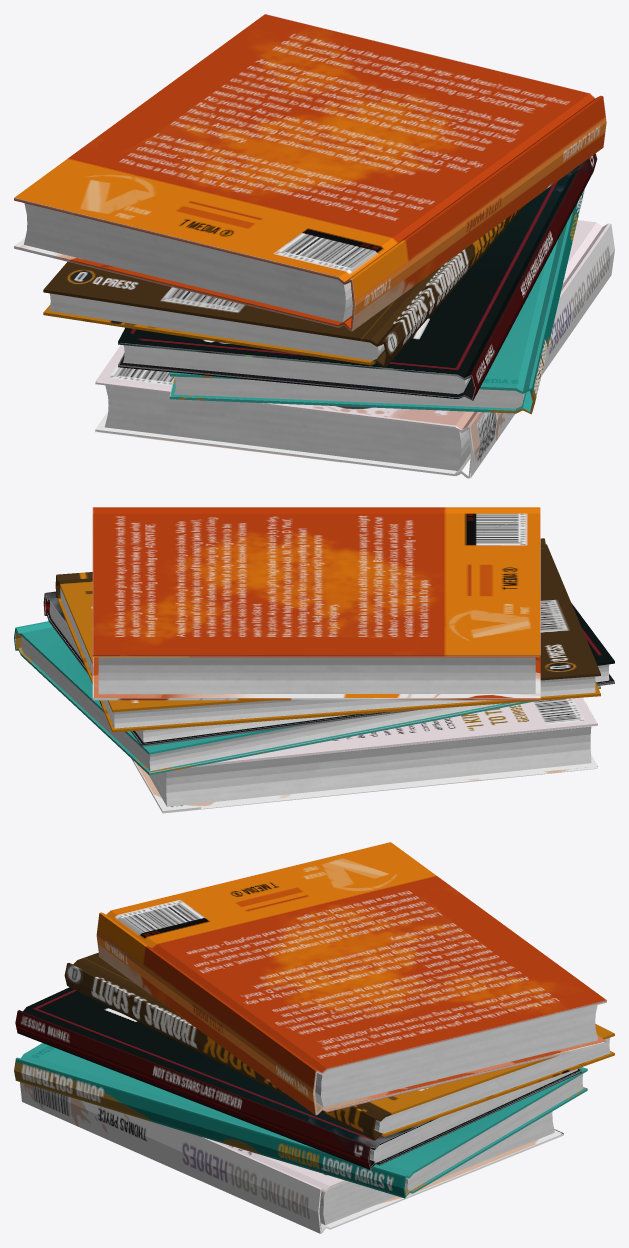
Rendered from Book Set.FBX.
3 views of the same model, one above another, from view 1: azimuth 30°, elevation 25°; view 2: azimuth 150°, elevation 25°; view 3: azimuth 270°, elevation 25° (orthographic). The views are drawn at different scales.
Visible parts, largest first — view 1: Booksm; view 2: Booksm; view 3: Booksm.
Part boxes in pixels (<box>): Booksm: <box>14,14,614,478</box>; Booksm: <box>14,507,614,813</box>; Booksm: <box>14,842,614,1233</box>.
Bounding box in the file's own units: 1.6 × 0.466 × 1.6.
1 material, 1 textured.
